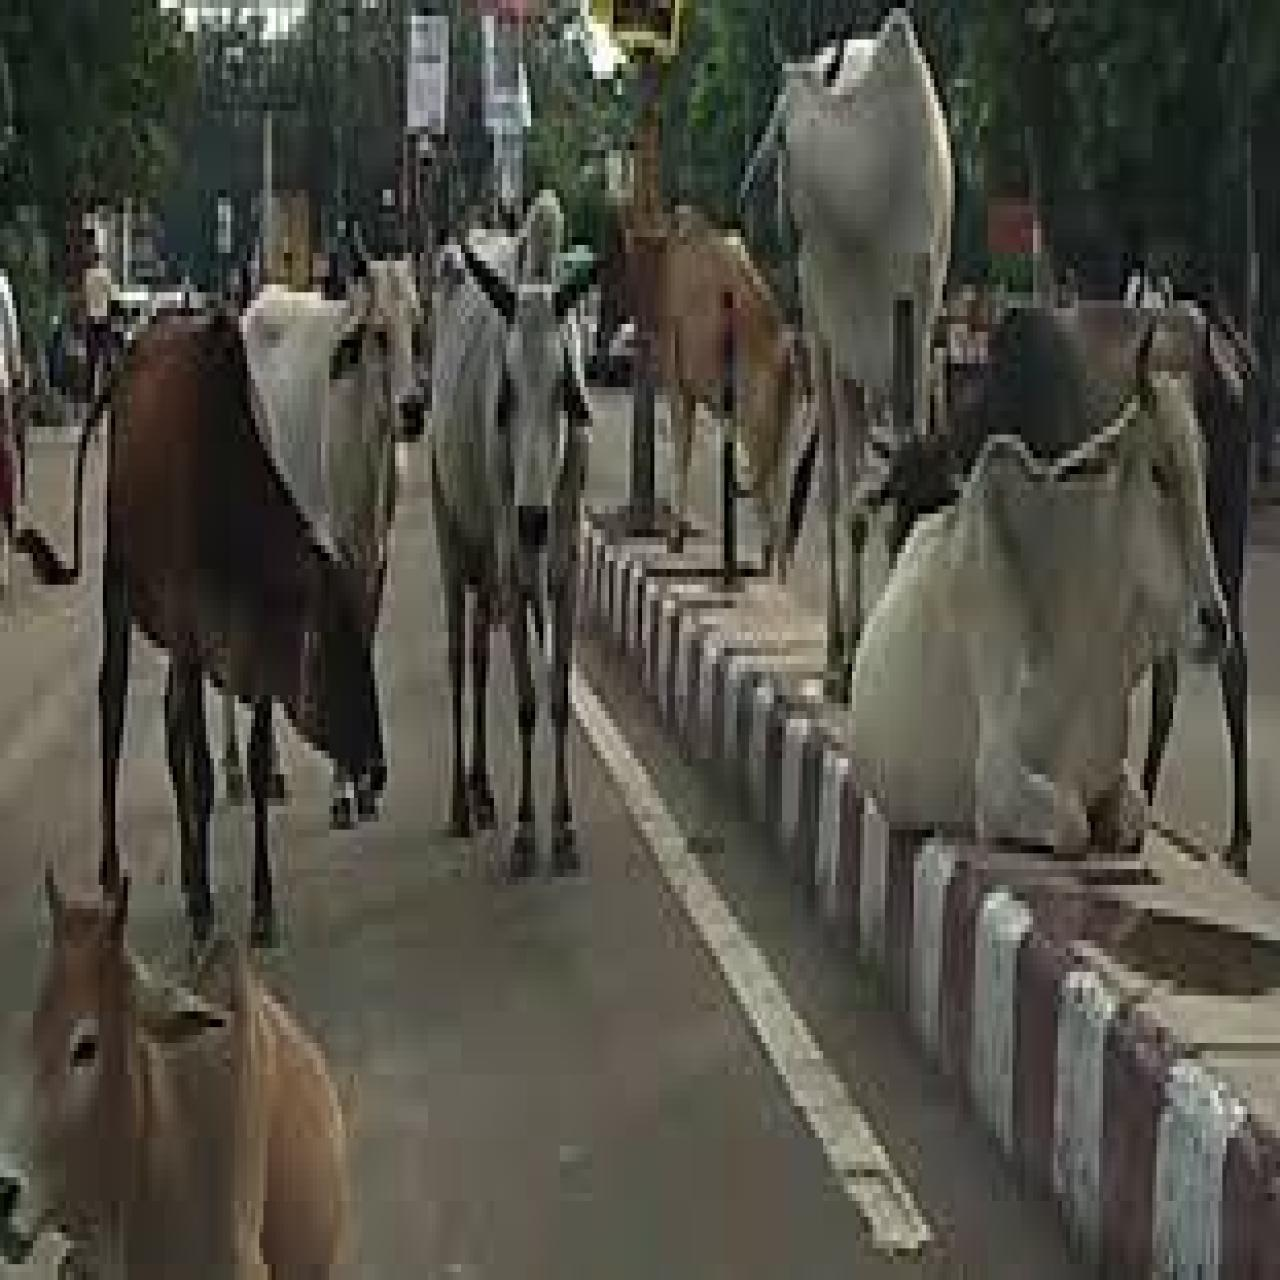cow: (848, 379, 1235, 861), (101, 320, 385, 944), (0, 908, 341, 1280), (434, 253, 599, 877), (237, 256, 422, 588)
